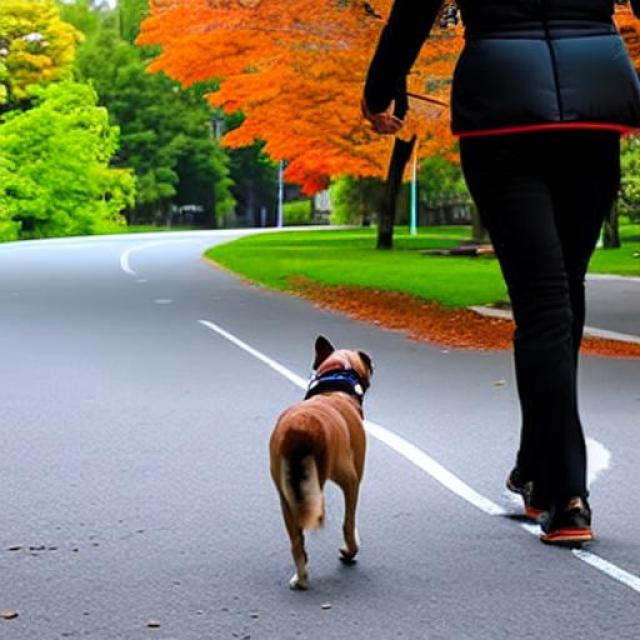Unleashed_Dog: (268, 62, 628, 590)
